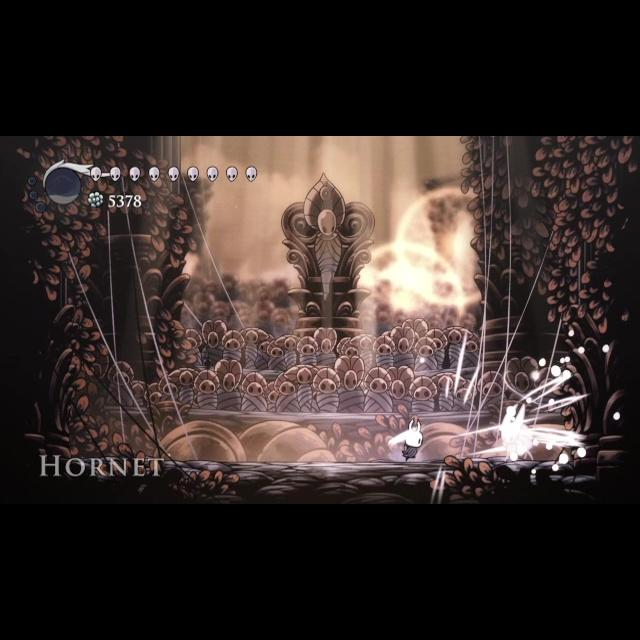EnemyDamaged: (466, 404, 542, 464)
Player: (397, 418, 429, 466)
